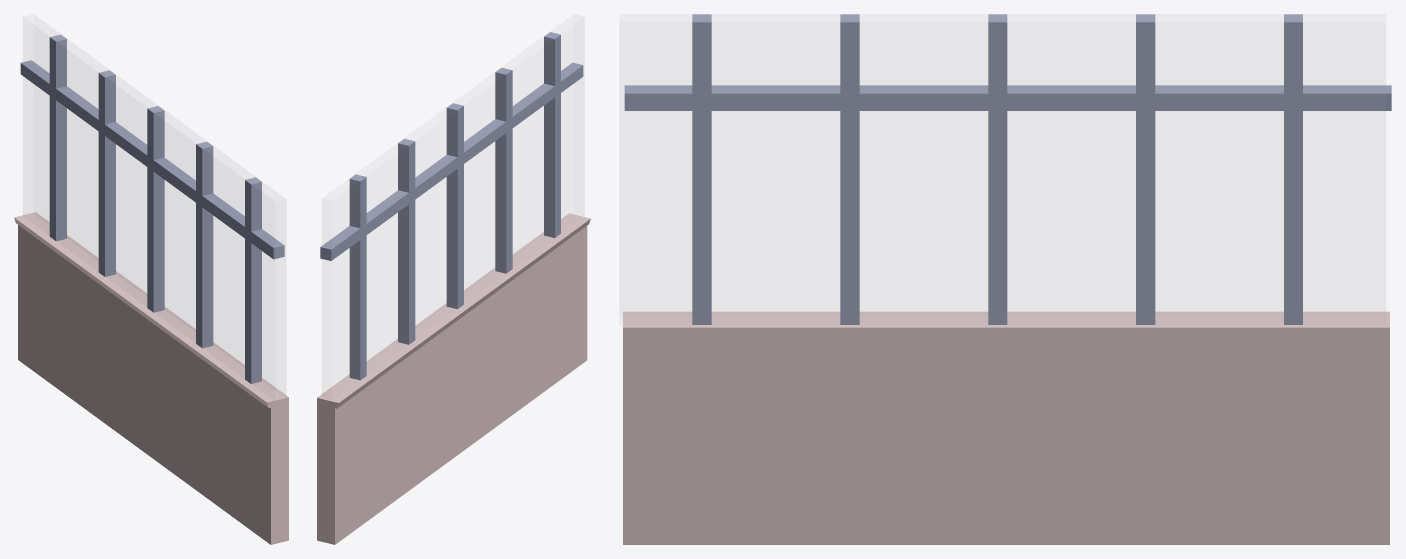
The model's file is WallBlock.fbx.
3 renders of one model, left to right at view 1: azimuth 30°, elevation 25°; view 2: azimuth 150°, elevation 25°; view 3: azimuth 270°, elevation 25°, orthographic. The views are drawn at different scales.
Visible parts, largest first — view 1: 立方体.043; view 2: 立方体.043; view 3: 立方体.043.
Part boxes in pixels (x1=…): 立方体.043: x1=14, y1=14, x2=288, y2=544; 立方体.043: x1=317, y1=15, x2=590, y2=544; 立方体.043: x1=620, y1=14, x2=1391, y2=544.
Bounding box in the file's own units: 40 × 599 × 806.
